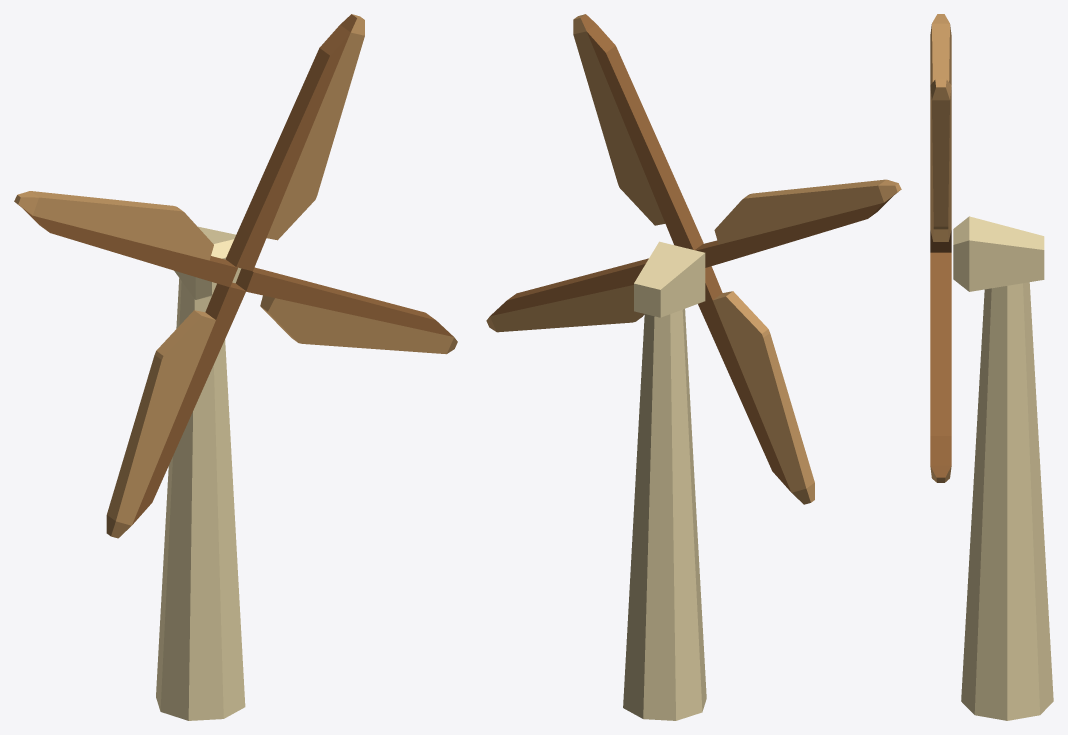
File: WINDMILL.fbx
3 views of the same model, side by side, from view 1: azimuth 30°, elevation 25°; view 2: azimuth 150°, elevation 25°; view 3: azimuth 270°, elevation 25° (orthographic). The views are drawn at different scales.
Visible parts, largest first — view 1: Cylinder.021, Cylinder.018; view 2: Cylinder.021, Cylinder.018; view 3: Cylinder.018, Cylinder.021.
Part boxes in pixels (box(x1,y1,x2,y2)): Cylinder.021: box(14, 14, 457, 538); Cylinder.018: box(156, 226, 245, 720); Cylinder.021: box(486, 14, 901, 504); Cylinder.018: box(623, 241, 706, 720); Cylinder.018: box(953, 216, 1053, 720); Cylinder.021: box(930, 14, 951, 482).
Size of the model in its own units: 6199 by 9177 by 1508.
